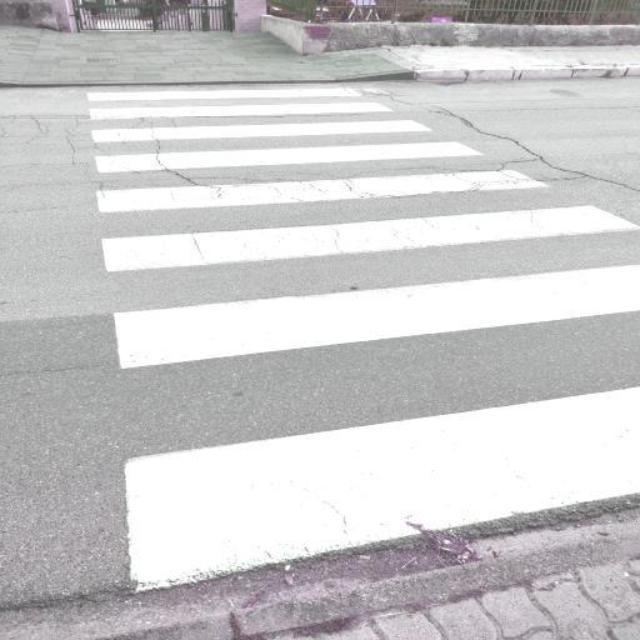sidewalk: (86, 81, 640, 601)
